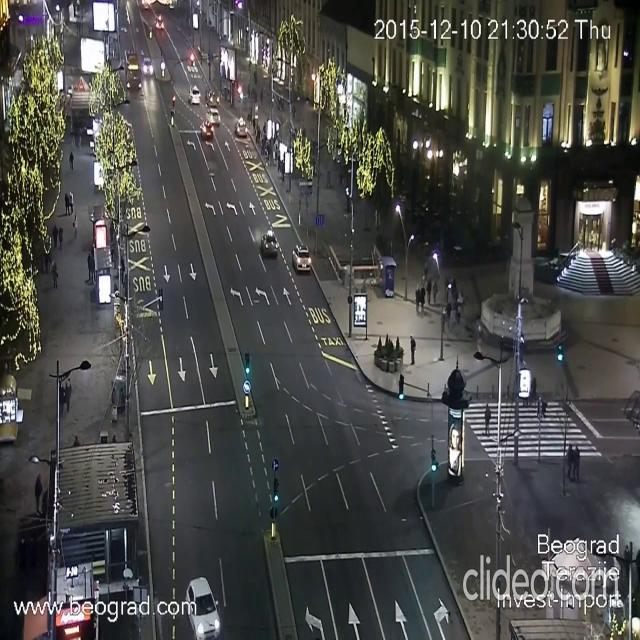bus: (124, 57, 142, 90)
car: (185, 576, 221, 639), (292, 243, 312, 273), (260, 229, 278, 258), (200, 120, 212, 151), (190, 89, 203, 104), (235, 116, 245, 135), (210, 102, 218, 123), (206, 92, 218, 103), (144, 62, 150, 78)
